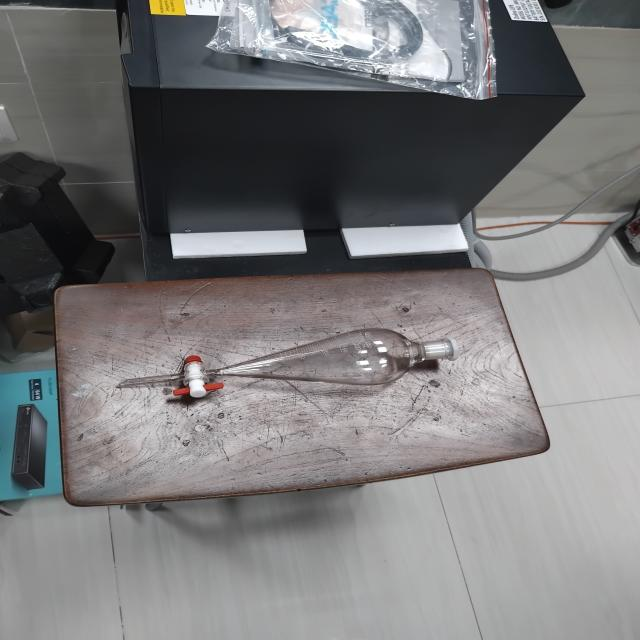Separating_Funnel: (100, 308, 498, 428)
